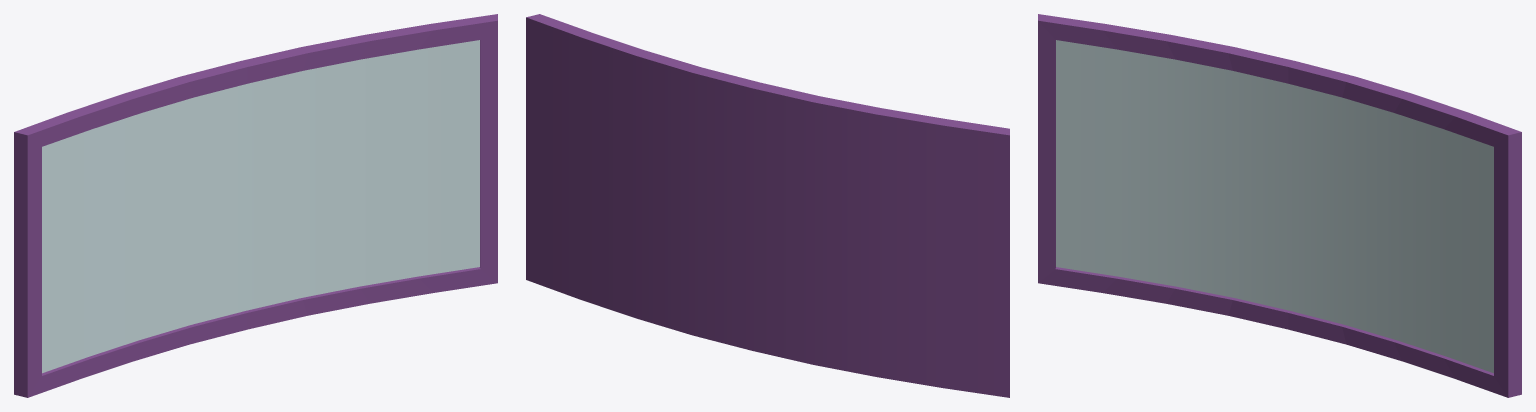
The model's file is Itr_Obj_Monitor_LCD_Curved_Screen_On_06.FBX.
The picture shows the model from 3 angles, left to right: view 1: azimuth 30°, elevation 25°; view 2: azimuth 150°, elevation 25°; view 3: azimuth 330°, elevation 25°; orthographic projection.
Visible parts, largest first — view 1: Itr_Obj_Monitor_LCD_Curved_Screen_On_06; view 2: Itr_Obj_Monitor_LCD_Curved_Screen_On_06; view 3: Itr_Obj_Monitor_LCD_Curved_Screen_On_06.
Part boxes in pixels (<box>): Itr_Obj_Monitor_LCD_Curved_Screen_On_06: <box>14,14,497,397</box>; Itr_Obj_Monitor_LCD_Curved_Screen_On_06: <box>526,14,1009,397</box>; Itr_Obj_Monitor_LCD_Curved_Screen_On_06: <box>1038,14,1521,397</box>.
Size of the model in its own units: 67.75 by 35.13 by 5.58.
